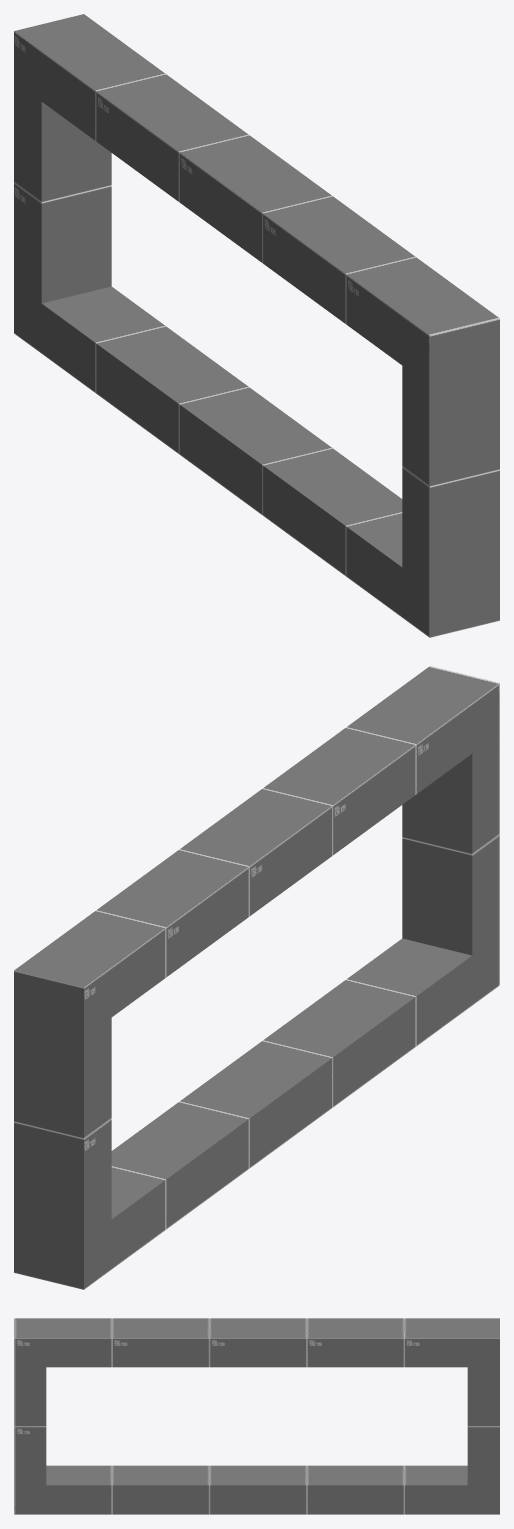
File: WallHole.fbx
The picture shows the model from 3 angles, top to bottom: view 1: azimuth 30°, elevation 25°; view 2: azimuth 150°, elevation 25°; view 3: azimuth 270°, elevation 25°; orthographic projection. The views are drawn at different scales.
Visible parts, largest first — view 1: WallHole; view 2: WallHole; view 3: WallHole.
Boxes of the visible parts, x1,y1,x2,y2 form: WallHole: [14, 14, 499, 637]; WallHole: [14, 666, 499, 1289]; WallHole: [14, 1318, 499, 1514].
Bounding box in the file's own units: 1.24 × 5.13 × 12.8.
